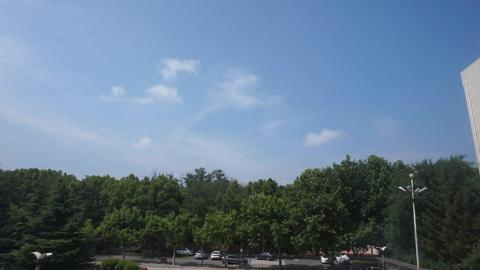UAV: (308, 162, 312, 164)
